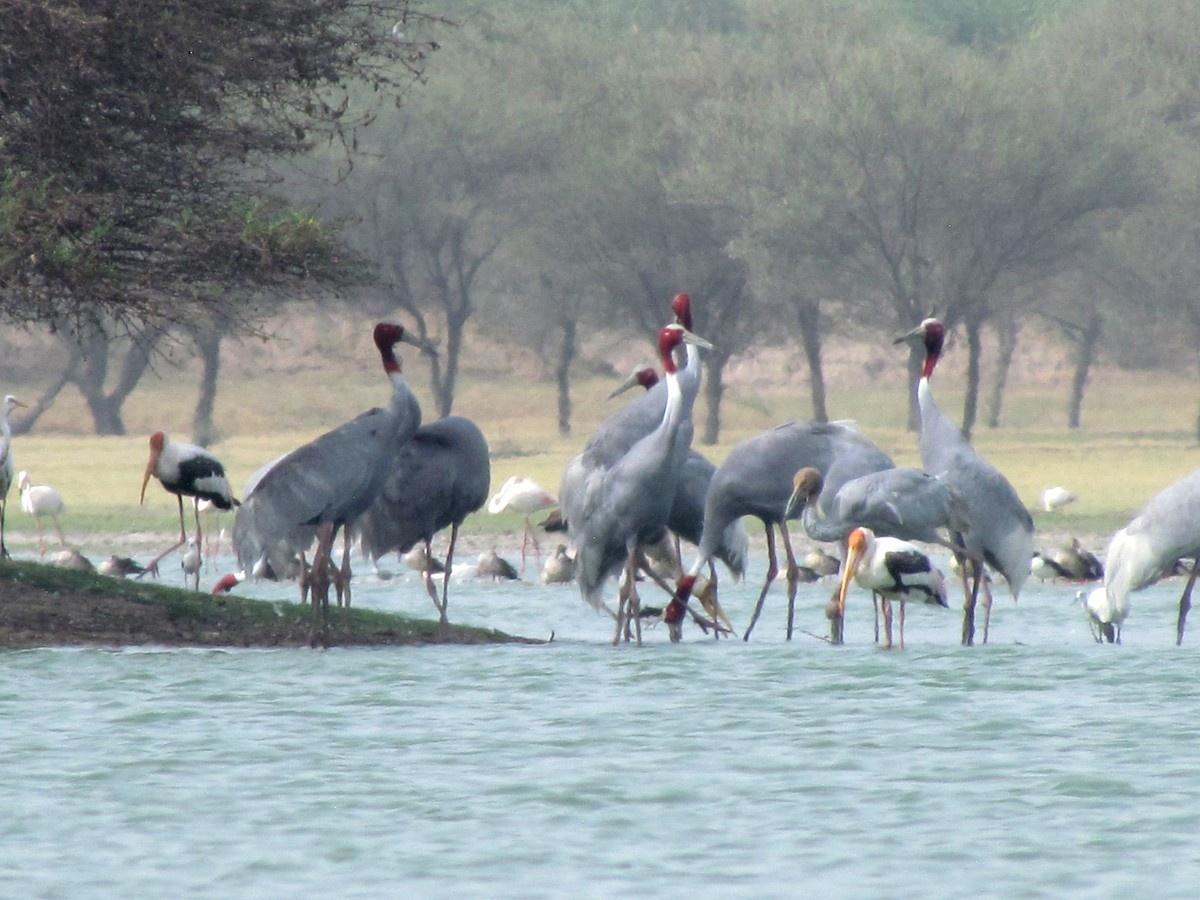crane: (235, 319, 437, 634), (907, 327, 1058, 652), (565, 330, 712, 643), (664, 421, 791, 625), (787, 456, 979, 535)
